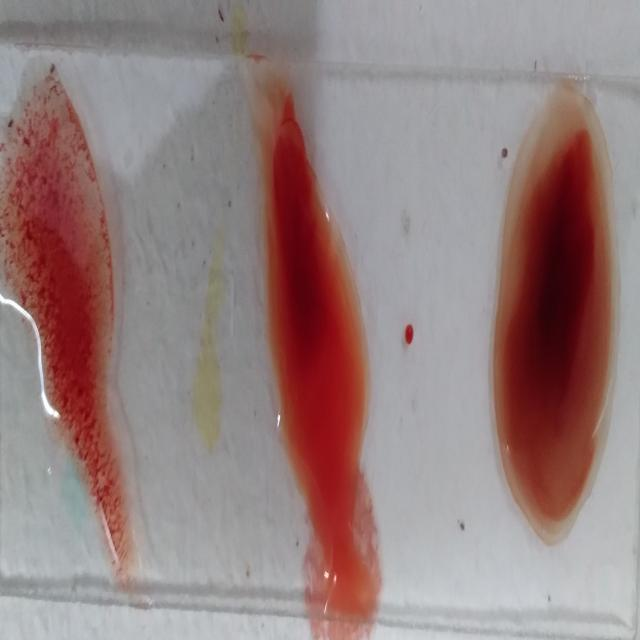D: (3, 47, 141, 588)
